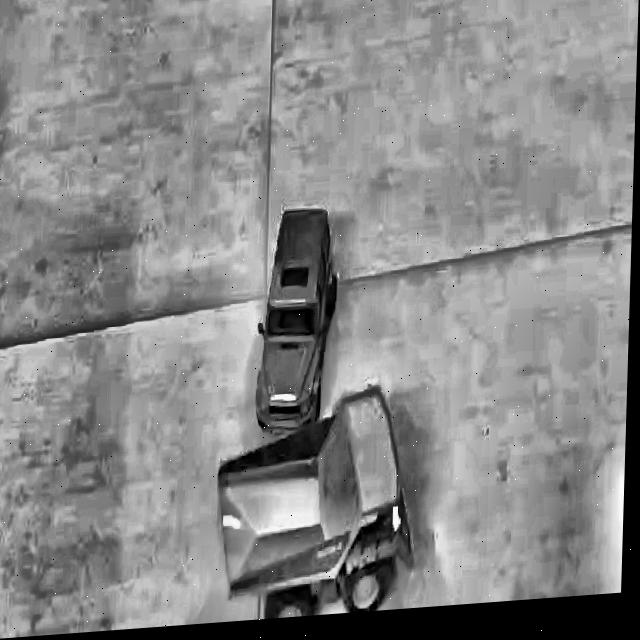dump_truck: (213, 389, 426, 627)
light_vehicle: (251, 204, 338, 428)
